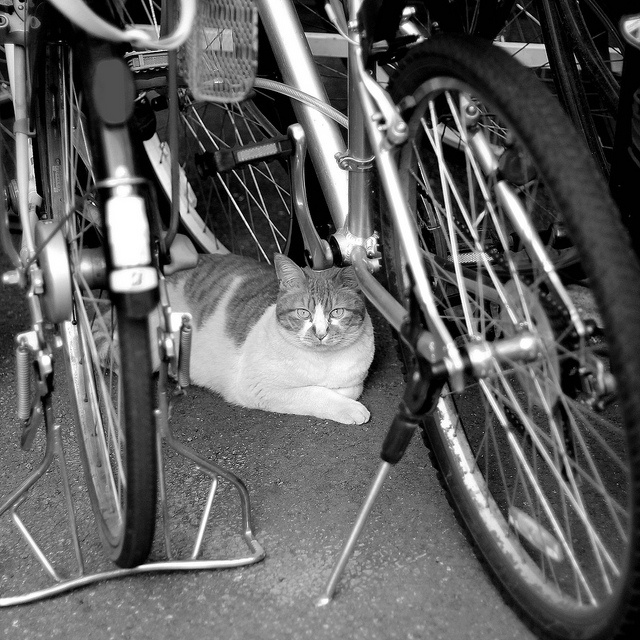non-vehicle: (181, 2, 640, 632), (0, 2, 281, 609), (534, 0, 639, 239)
